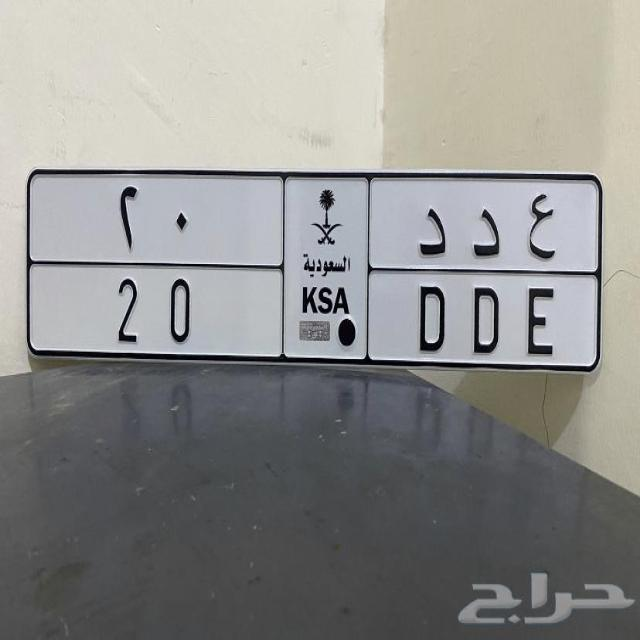license_plate: (26, 264, 604, 372)
